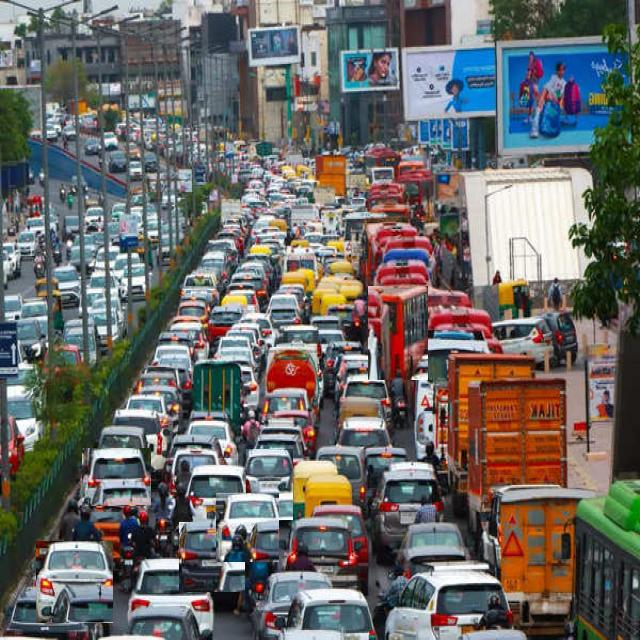bus: (368, 286, 428, 380)
car: (385, 568, 509, 639), (129, 558, 214, 636), (36, 542, 112, 623), (374, 463, 442, 549), (5, 585, 102, 639), (252, 572, 331, 638), (287, 518, 359, 588), (179, 522, 245, 592), (216, 494, 279, 562), (82, 448, 150, 506), (186, 465, 249, 521), (246, 450, 292, 520), (492, 318, 554, 363)
